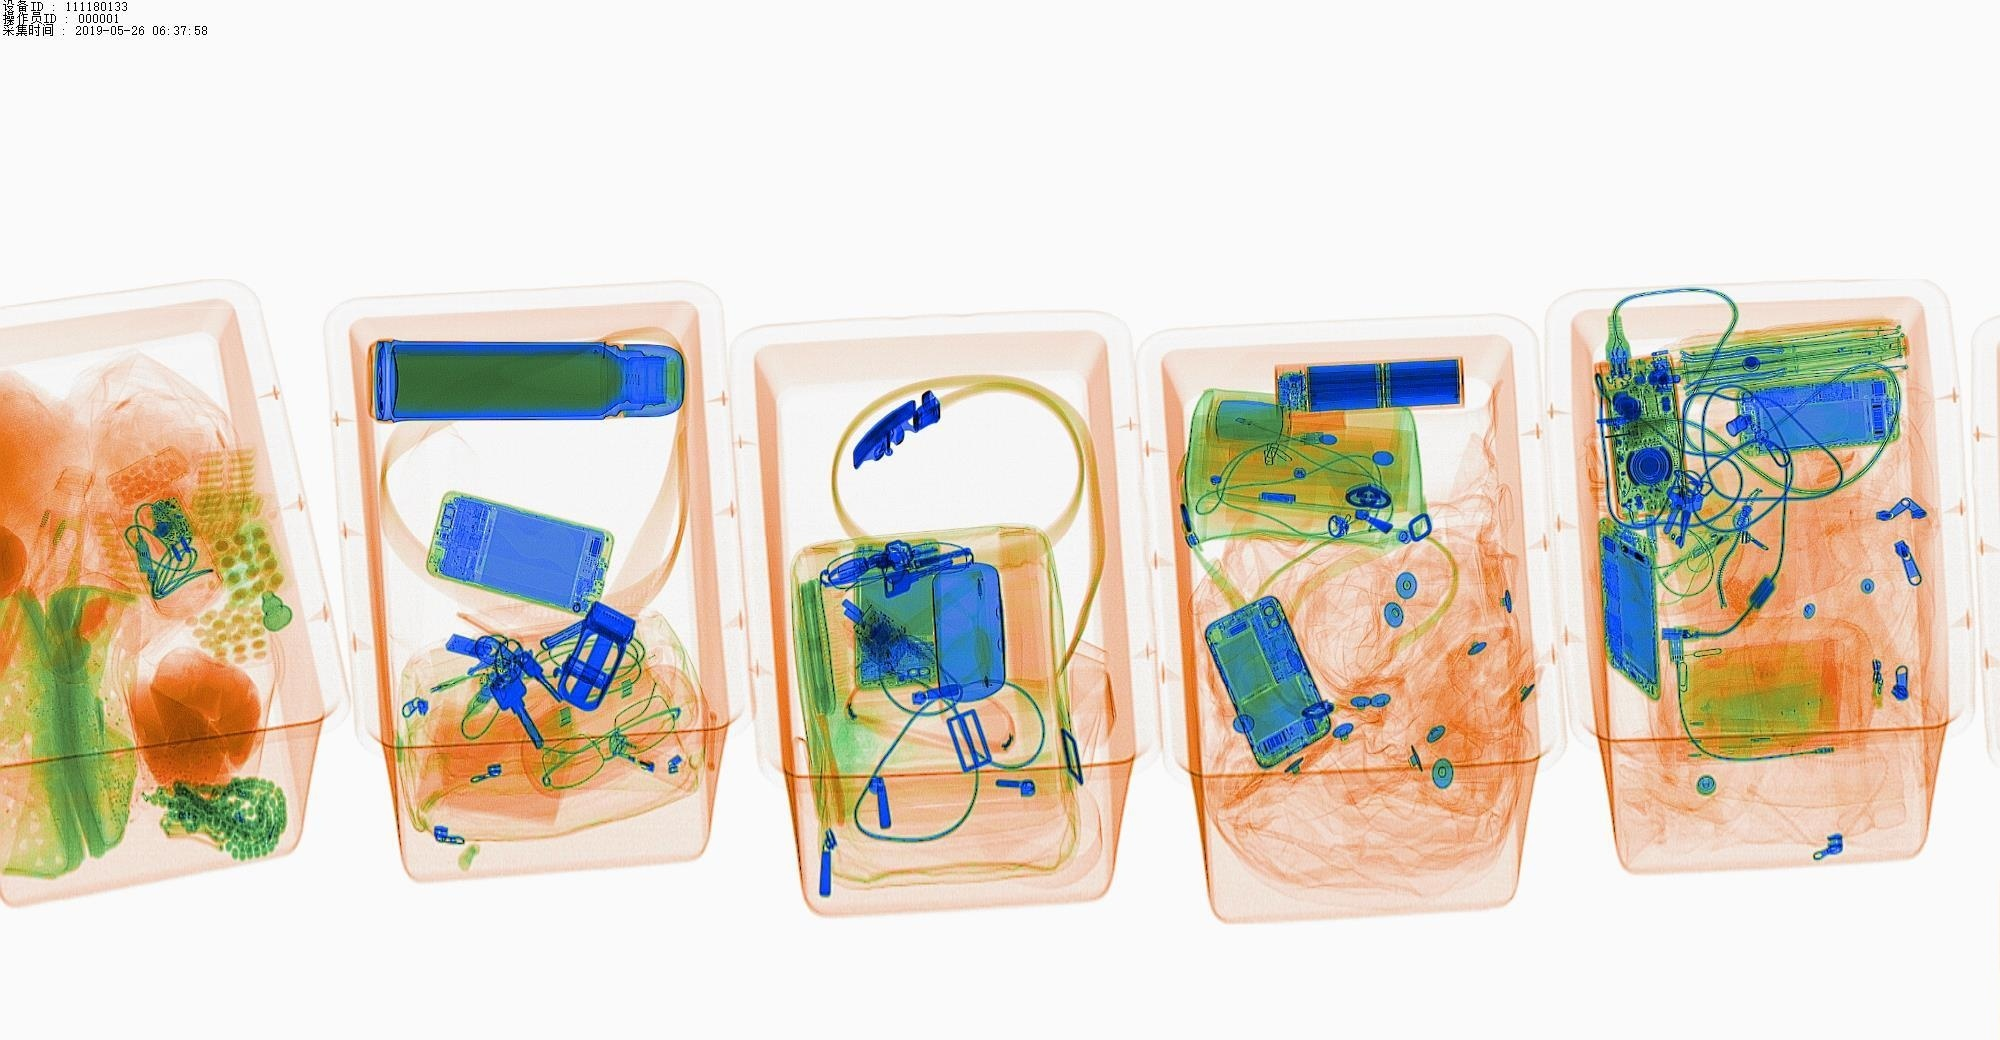NonmetallicFire: (601, 726, 716, 798)
